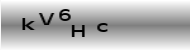6: (58, 9, 71, 22)
H: (70, 24, 85, 38)
V: (38, 11, 54, 25)
c: (95, 22, 108, 33)
k: (21, 18, 35, 31)
